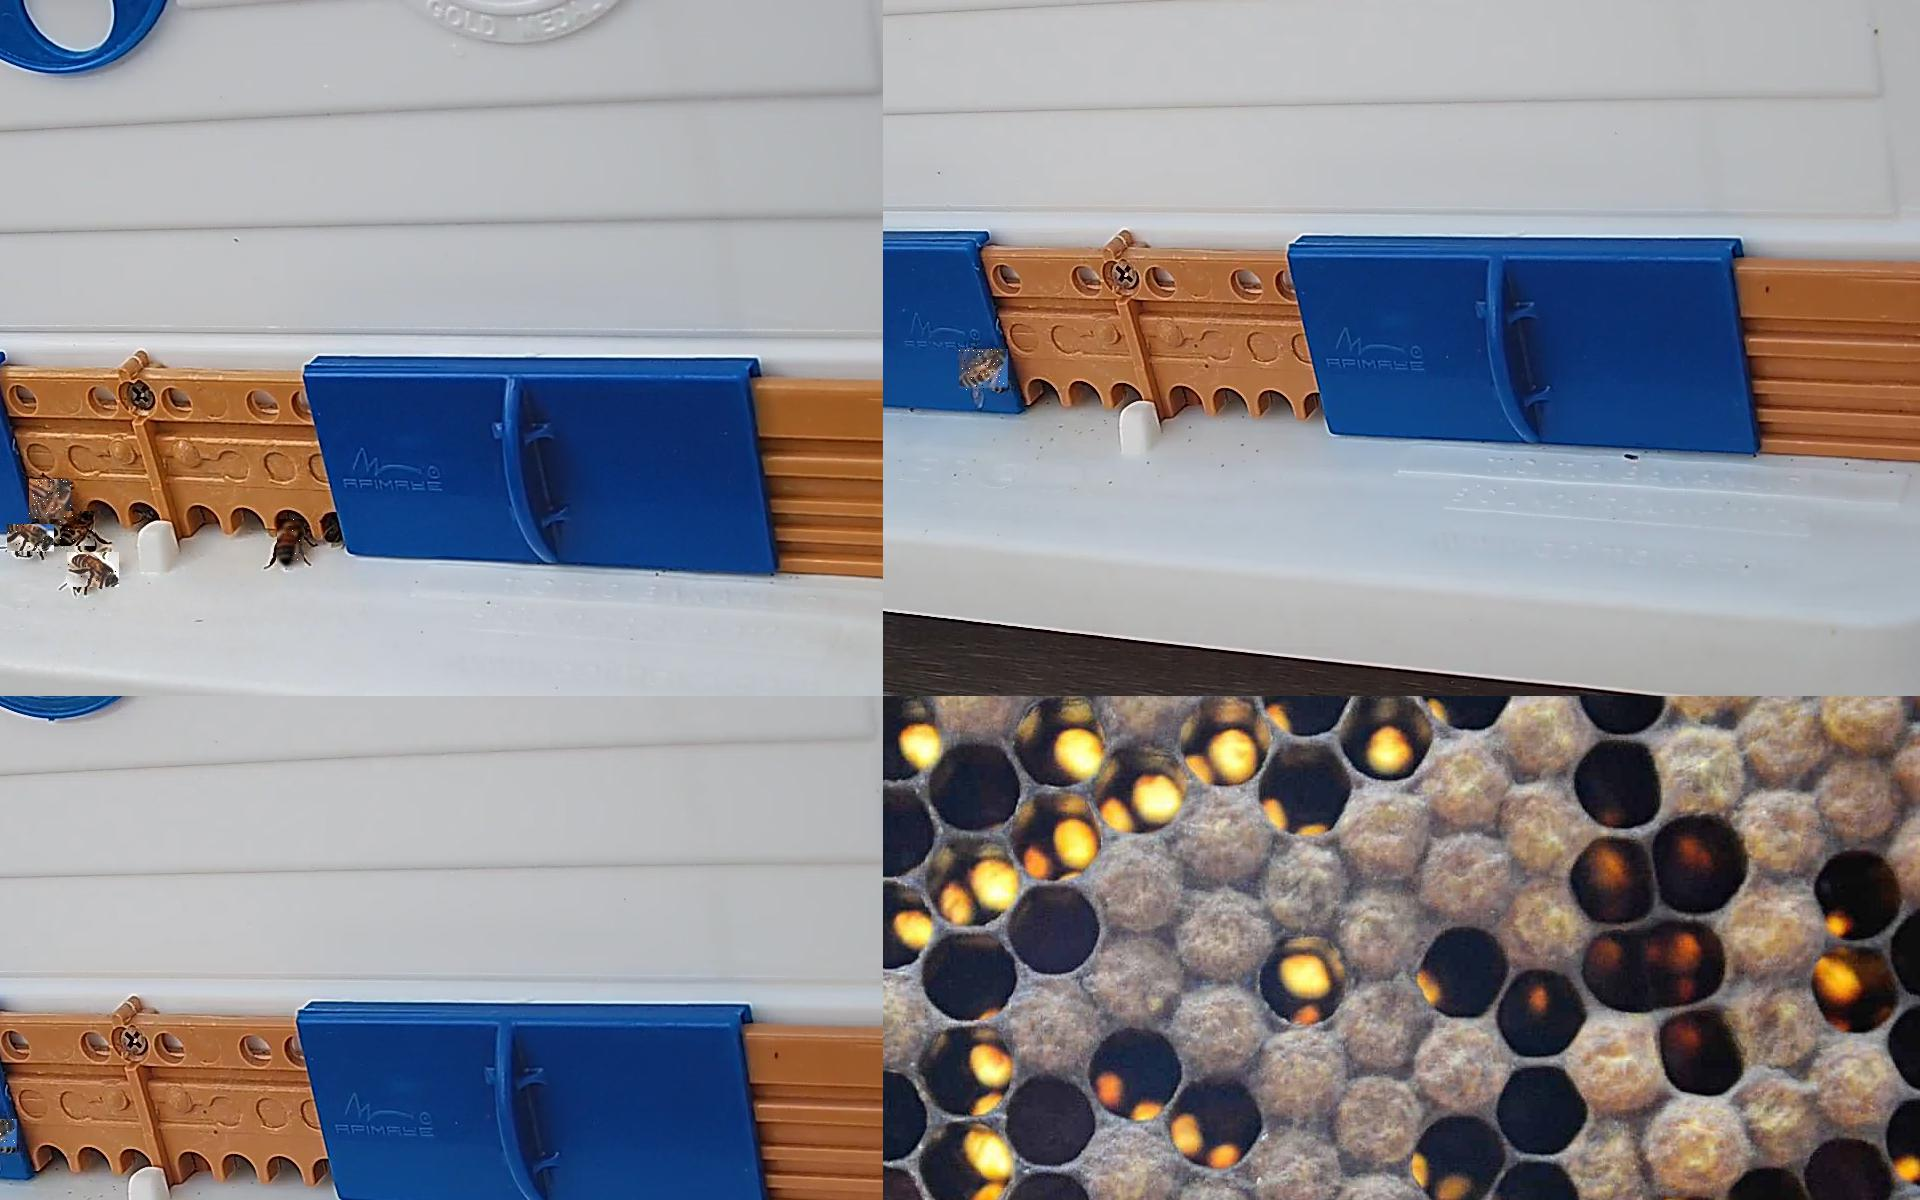bee: (959, 350, 1009, 391), (68, 552, 120, 588), (29, 480, 72, 520), (7, 525, 55, 556), (278, 520, 305, 571), (61, 512, 97, 550), (0, 1118, 19, 1152)
